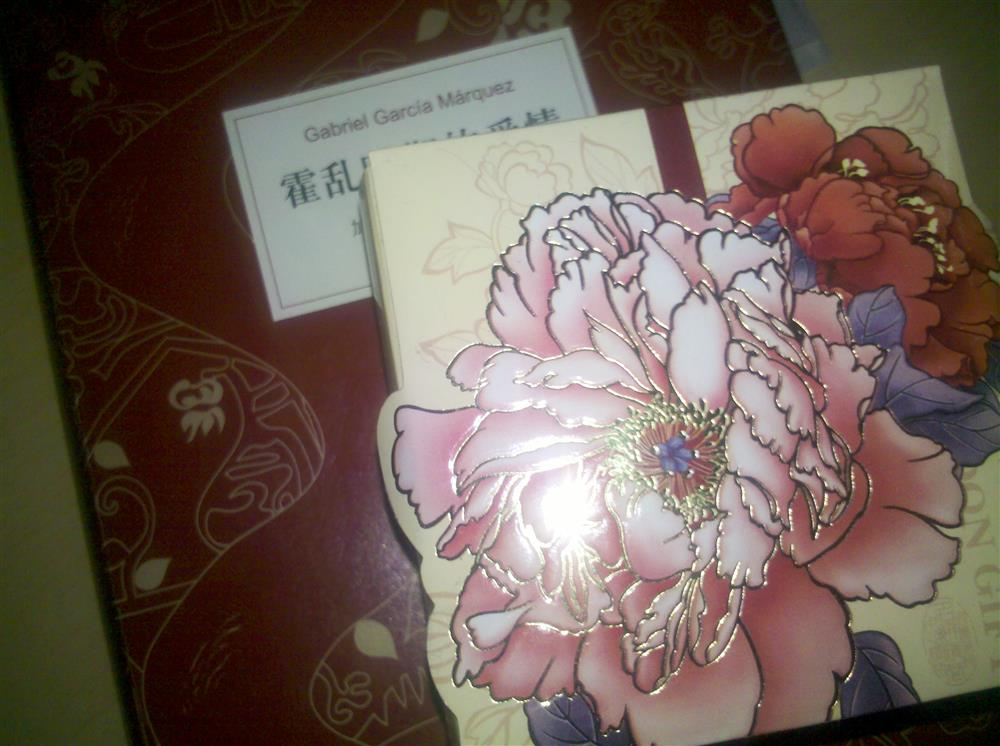mooncake_box: (350, 73, 997, 739)
